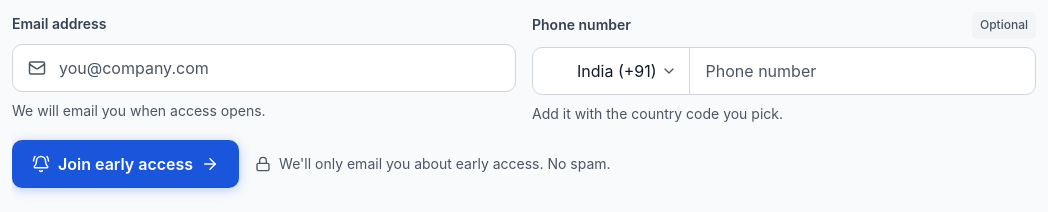
NotifyForm: rejects malformed email addresses › shows the error and sends nothing for empty
Expected: the field labelled "Email address" is shown, top-left (12, 44), bottom-right (516, 92)
Click the button "Join early access". click: point(126, 164)
box: top-left (12, 140), bottom-right (239, 188)
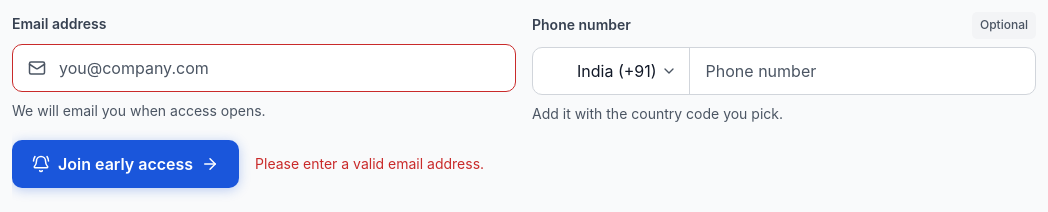
Expected: the text "Please enter a valid email address." is shown, top-left (255, 155), bottom-right (484, 172)
